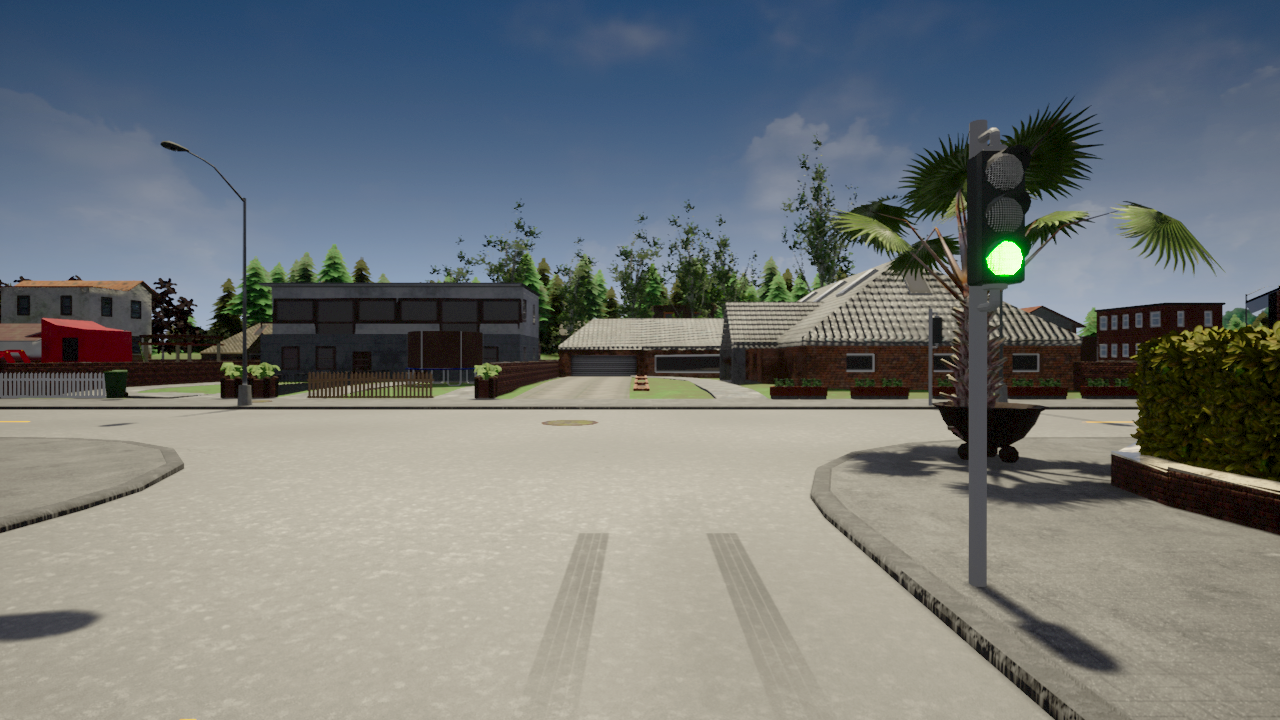green: (962, 141, 1028, 286)
